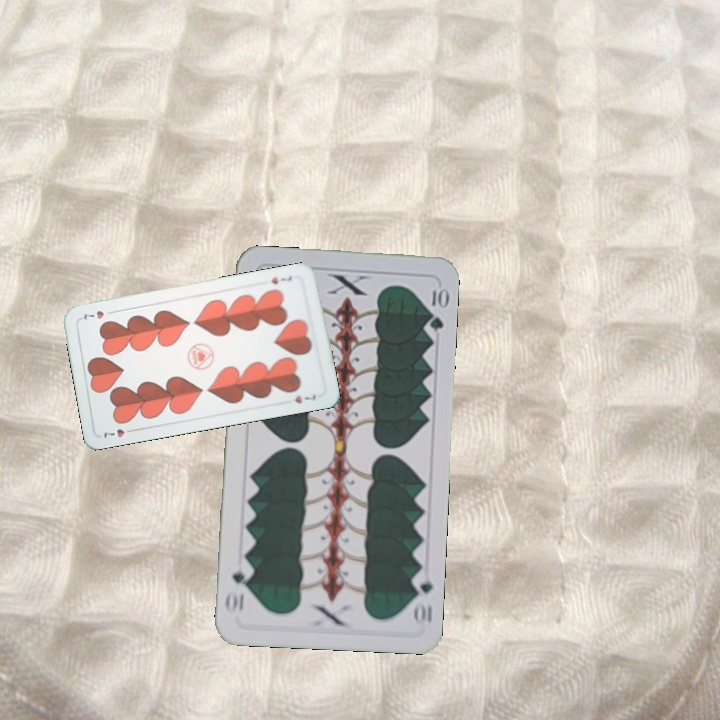G10: (408, 568, 435, 628)
H7: (100, 424, 138, 440), (268, 272, 294, 287)
